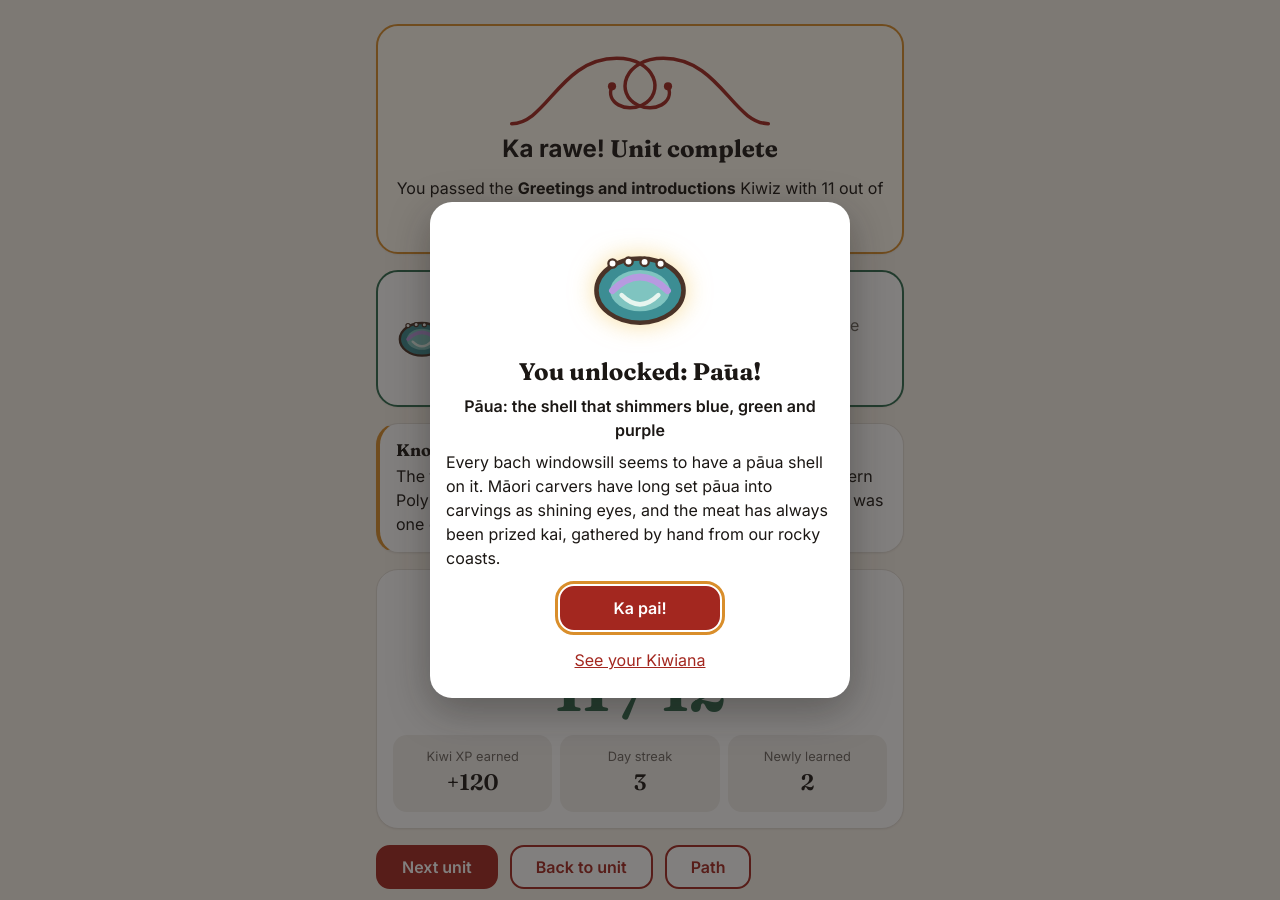
Results: unlock dialog › opens the story again from the icon on the unlock card
Click the button "Ka pai!" at (640, 608), box [560,586,720,630]
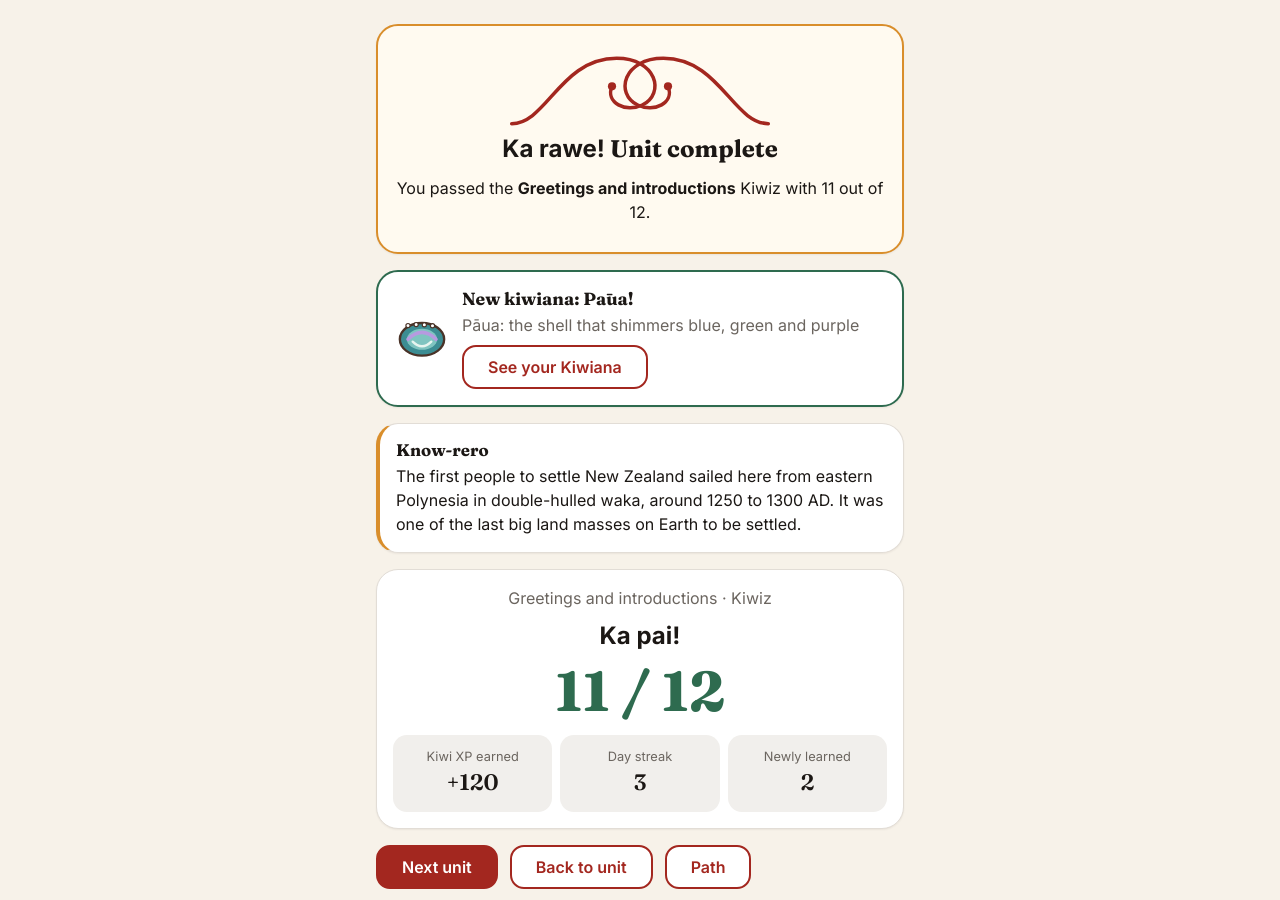
Expected: the dialog is gone
Click the button named "Read about Pāua" at (422, 339), box [394,309,450,368]
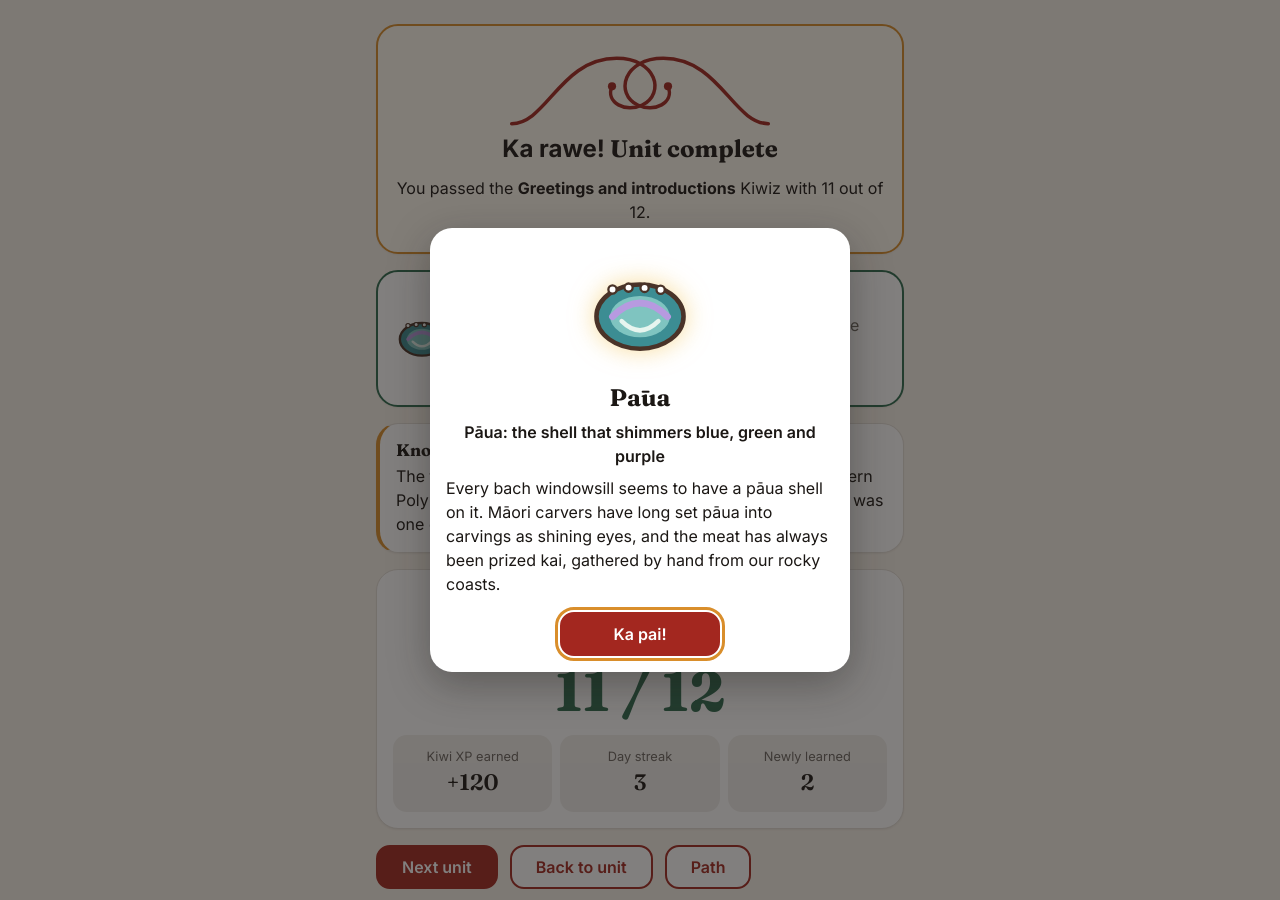
Expected: the heading "Pāua" is shown, [610,383,670,412]
